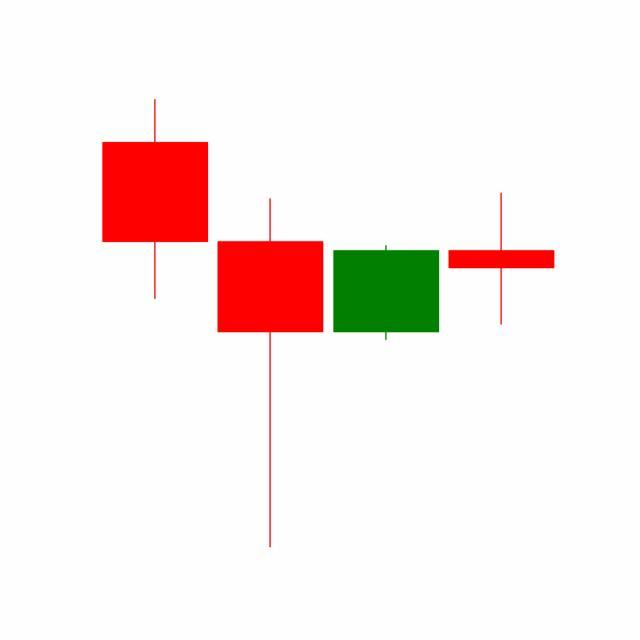Spinning Top: (444, 192, 560, 327)
